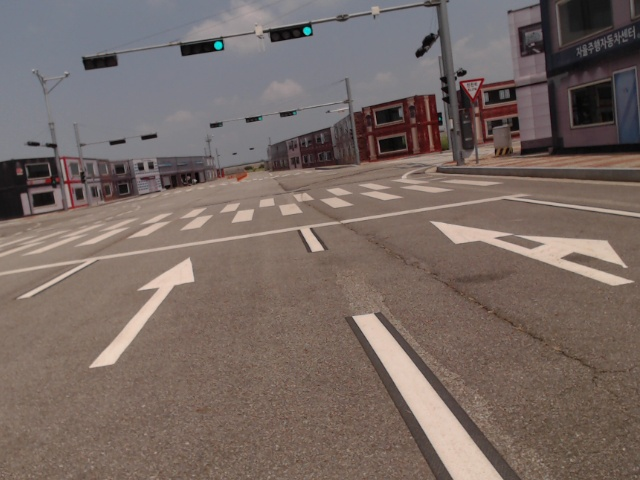straight_green_4: (269, 21, 315, 42), (181, 38, 223, 58), (244, 115, 263, 124), (280, 110, 298, 119)
